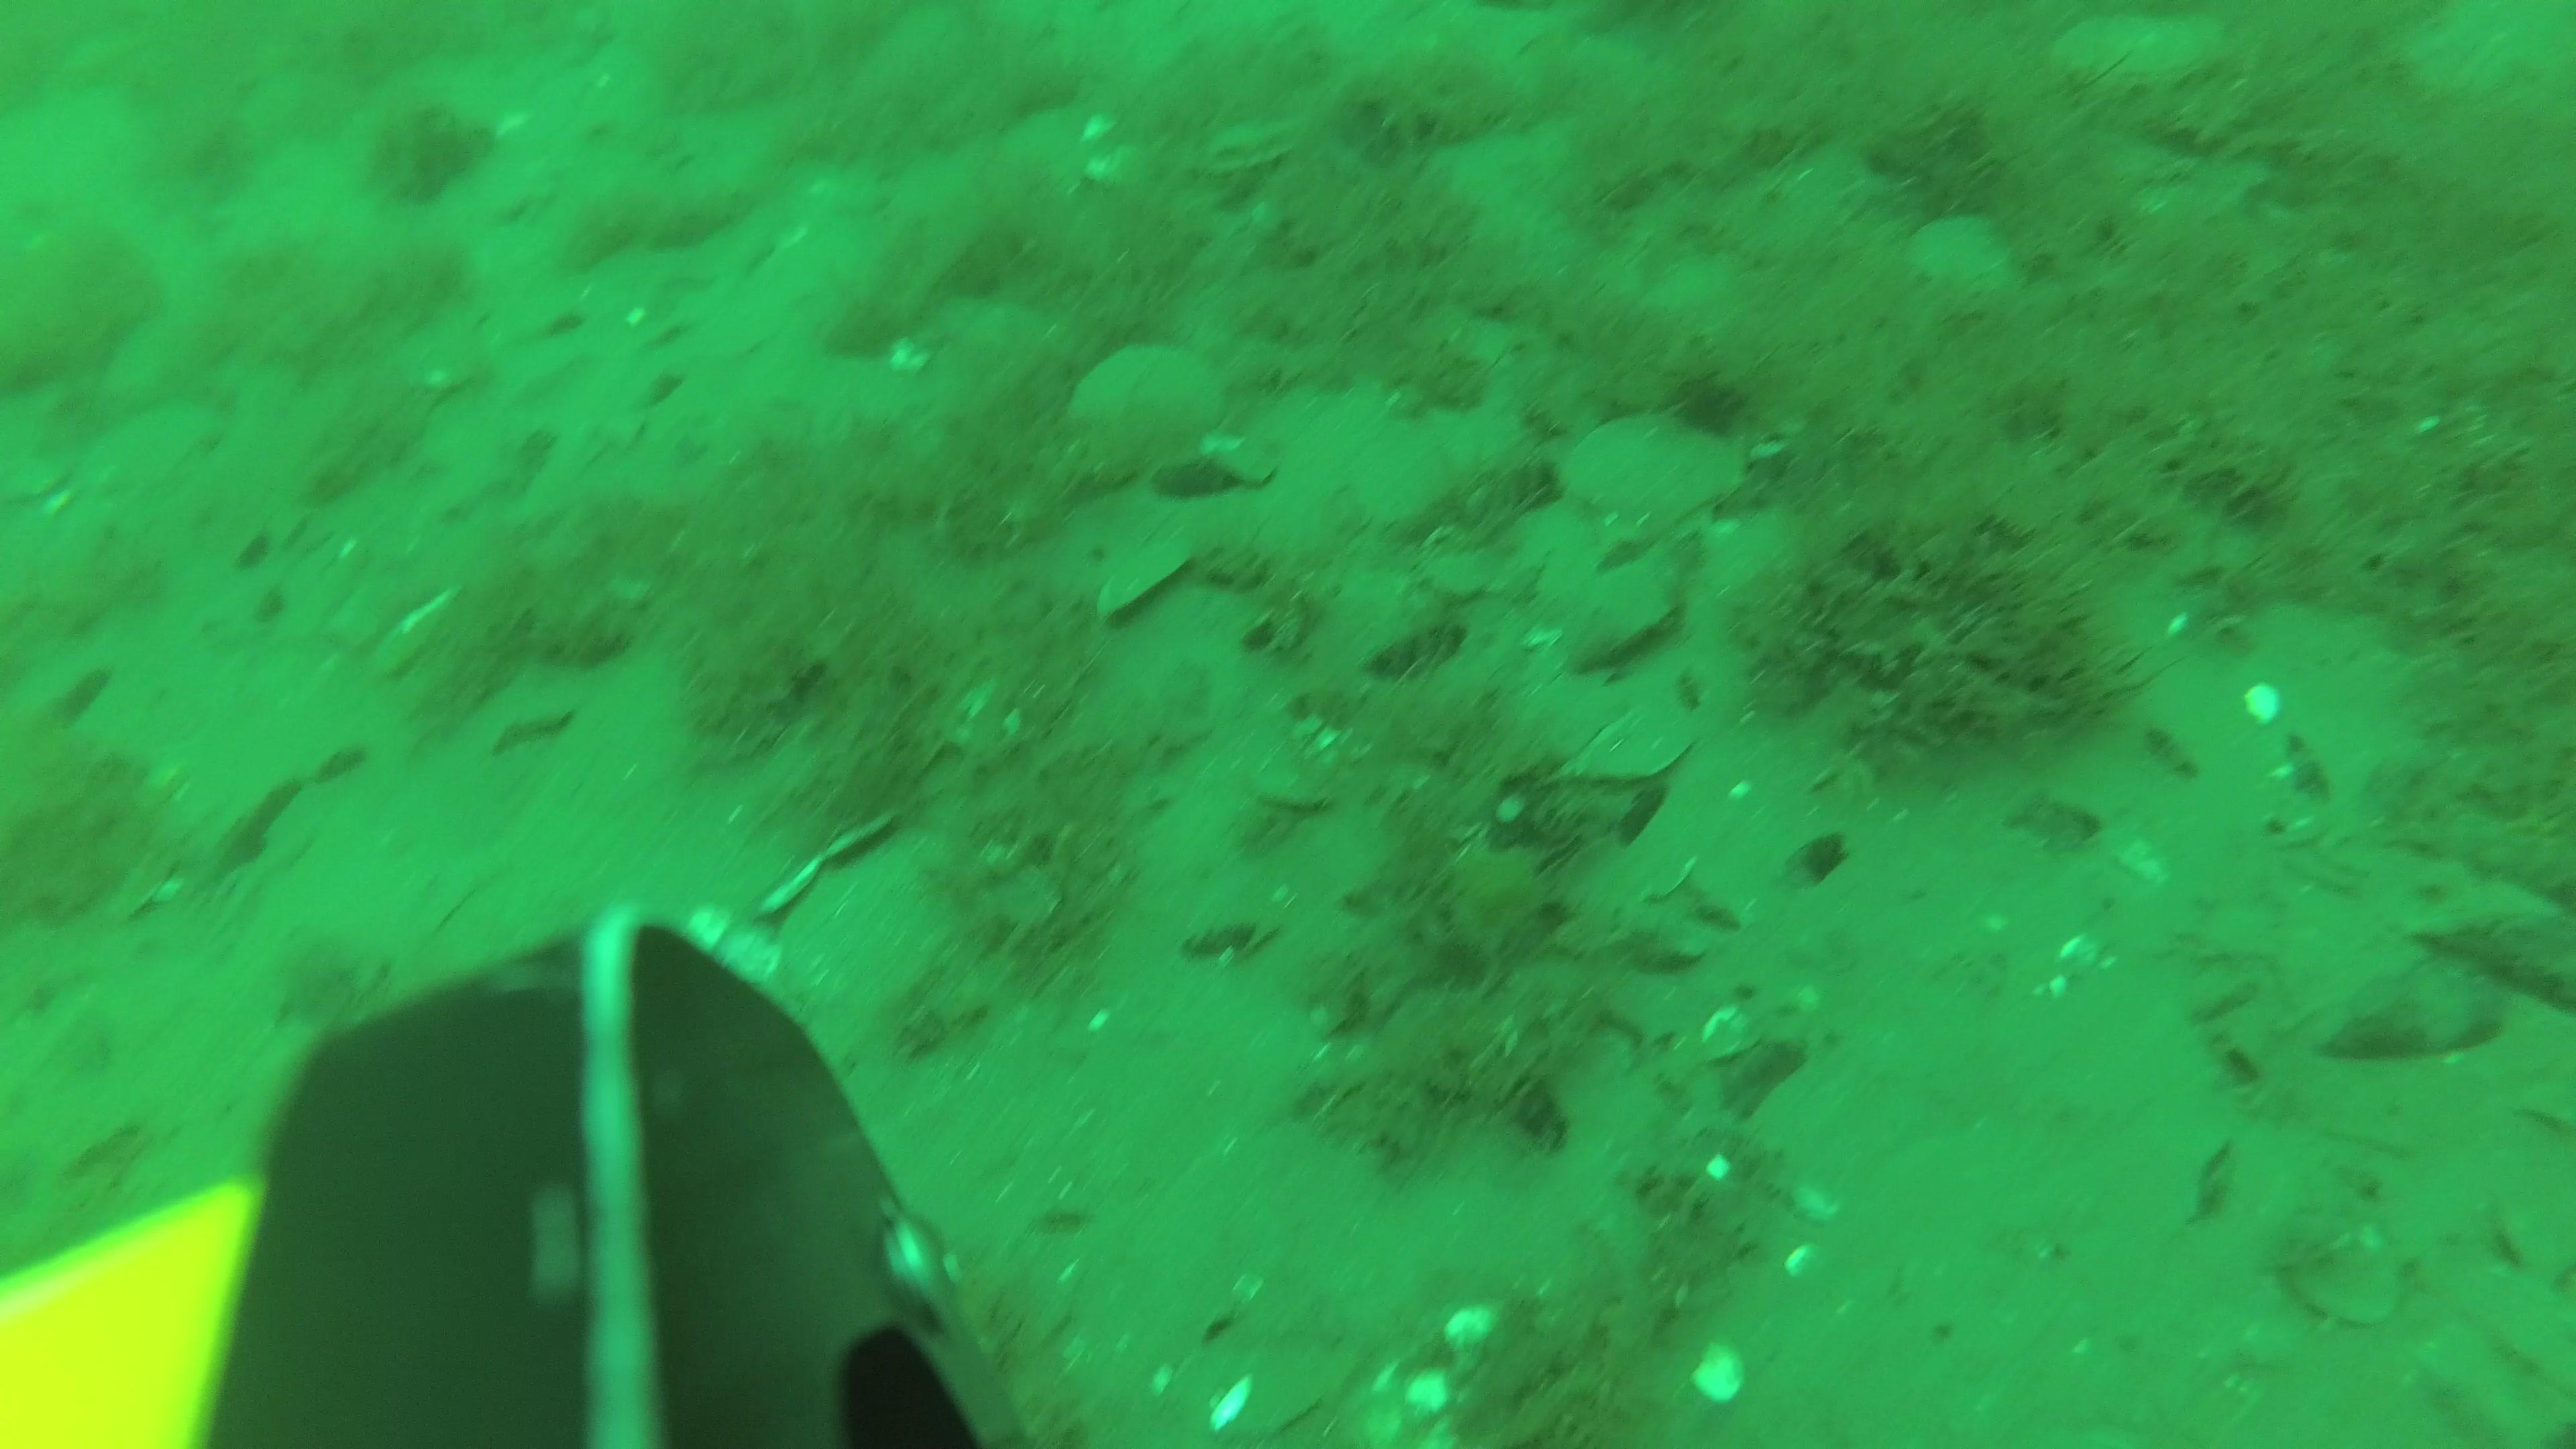scallop: (1495, 506, 1697, 671), (1557, 410, 1755, 554), (1065, 336, 1237, 471), (1194, 465, 1355, 582), (1900, 209, 2049, 313), (2045, 9, 2238, 85), (1194, 108, 1316, 184), (1088, 548, 1194, 617), (1419, 527, 1516, 602)
